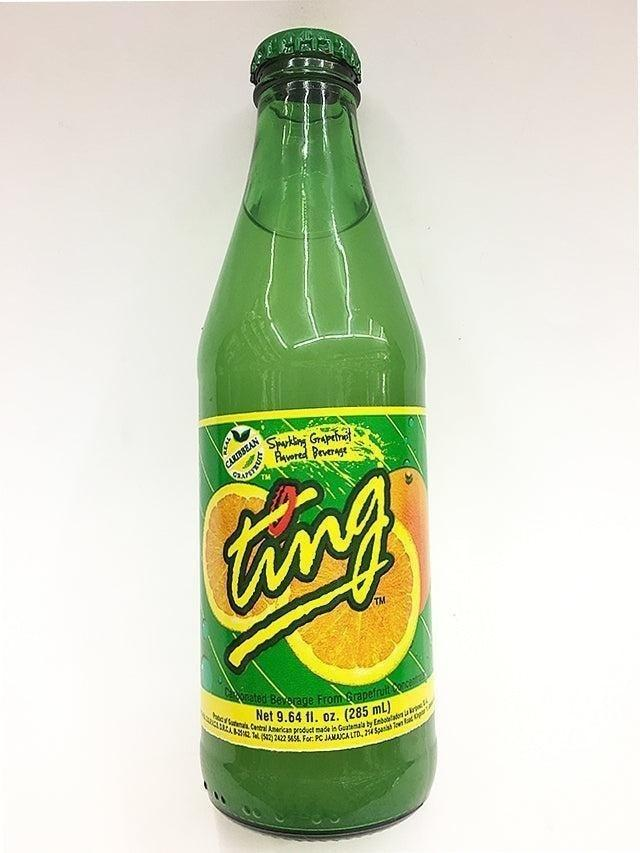bottle-glass: (192, 21, 442, 846)
